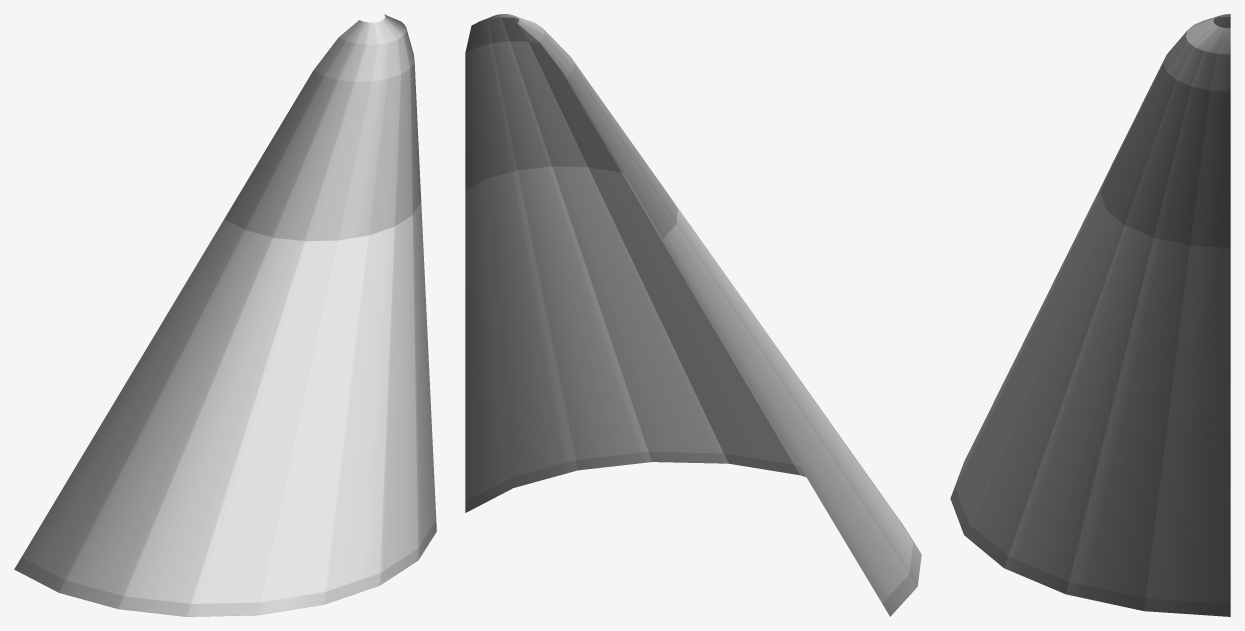
The picture shows the model from 3 angles, left to right: view 1: azimuth 30°, elevation 25°; view 2: azimuth 150°, elevation 25°; view 3: azimuth 270°, elevation 25°; orthographic projection. The views are drawn at different scales.
Parts seen in each view (by area): view 1: Cylinder; view 2: Cylinder; view 3: Cylinder.
Boxes of the visible parts, x1,y1,x2,y2 form: Cylinder: (14, 14, 436, 616); Cylinder: (465, 14, 921, 616); Cylinder: (950, 14, 1230, 616).
Bounding box in the file's own units: 1 × 1.13 × 0.5.
Materials: 1 (1 with a texture image).
